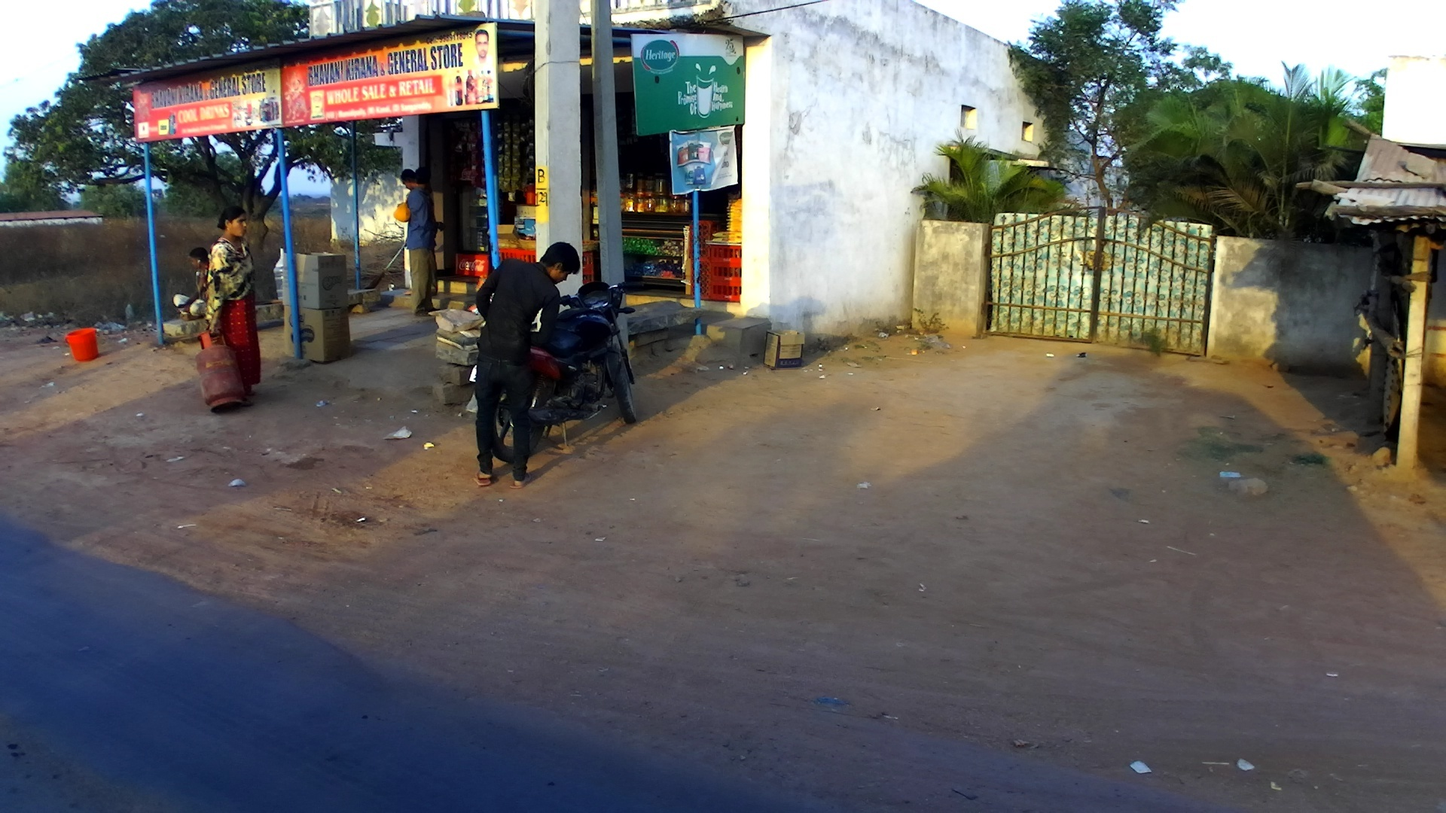motorcycle: (468, 273, 648, 470)
person: (201, 205, 267, 417), (393, 163, 444, 316), (166, 244, 218, 327)
rider: (472, 238, 587, 491)
